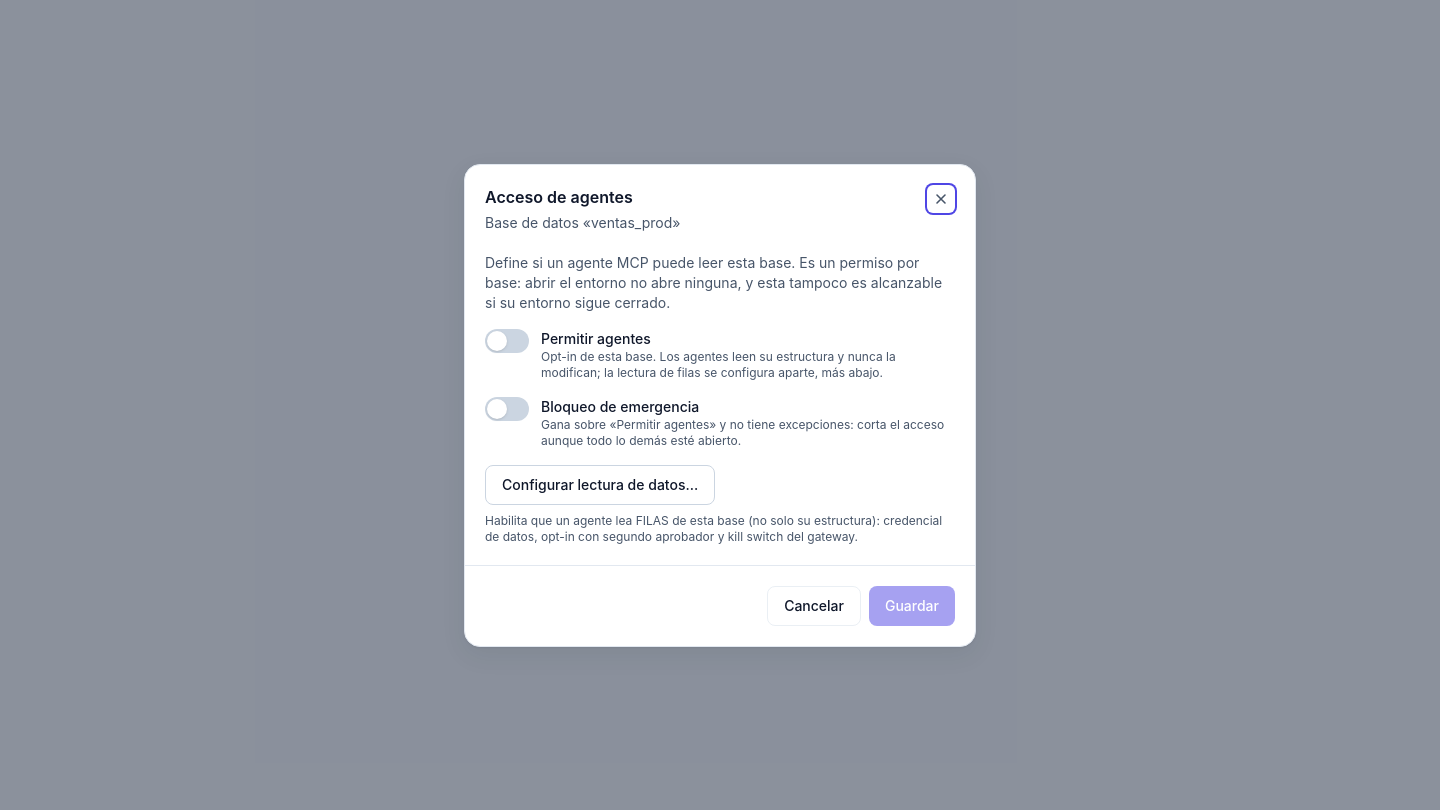
AgentAccessModal › credencial de solo lectura del servidor › con la credencial sin credencial y servers.admin ofrece la casilla, marcada por defecto
Click the 1st switch named "Permitir agentes": (507, 340) [485,328,529,352]
(page scrolled)
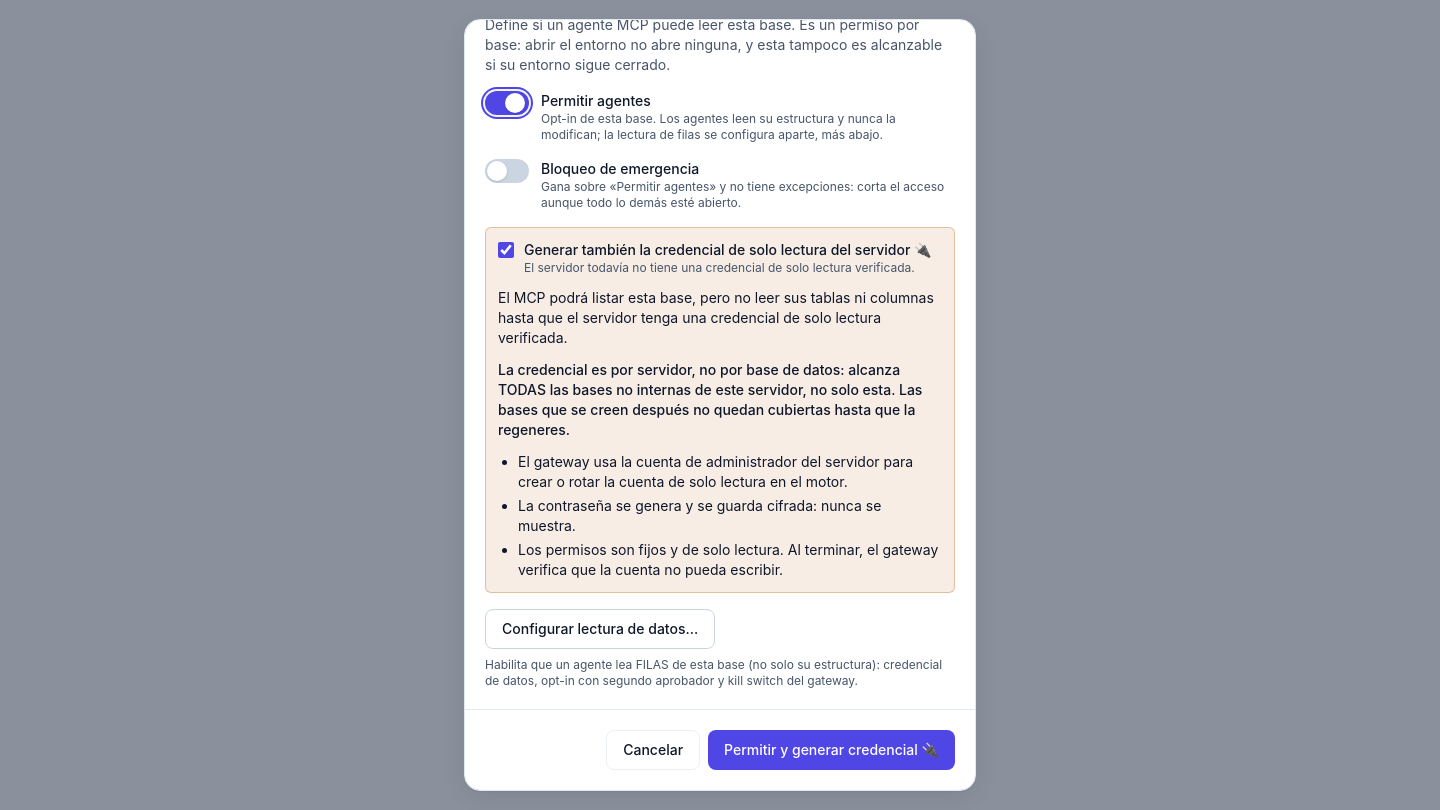
Expected: the checkbox labelled "Generar también la credencial de solo lectura del servidor 🔌" is checked, [498,242,514,258]
Expected: the button "Permitir y generar credencial 🔌" is enabled, [708,730,955,770]
